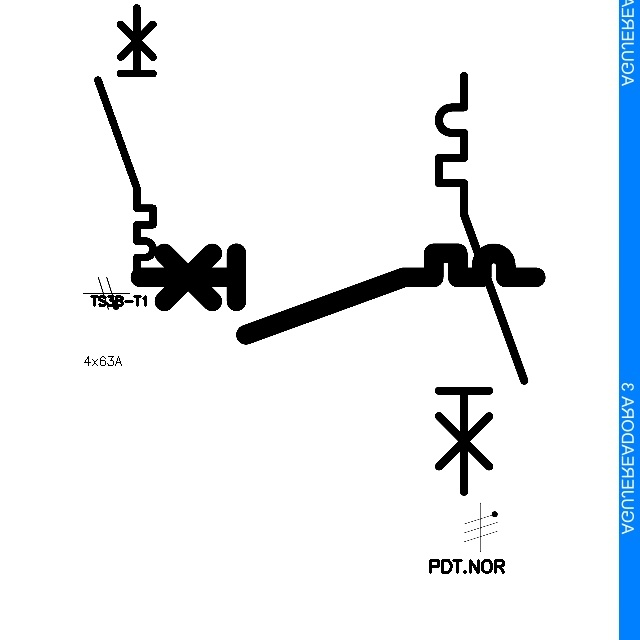interruptor_termomagnetico: (428, 65, 535, 502), (130, 243, 546, 345), (91, 1, 160, 285)
